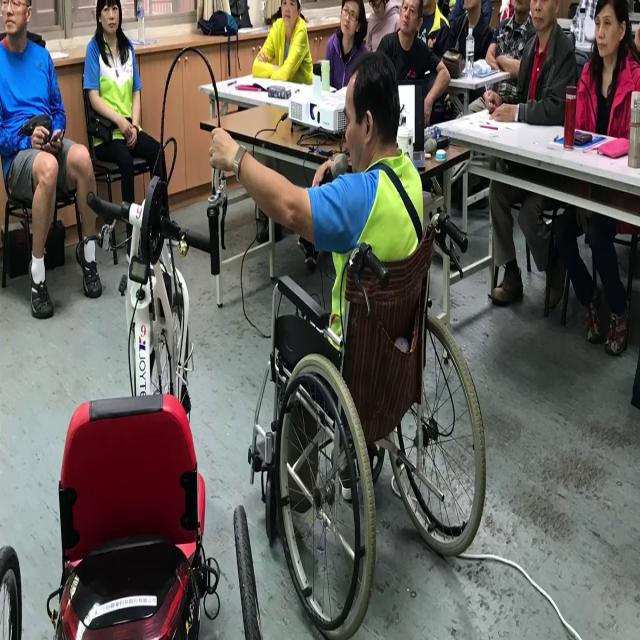wheelchairs: (238, 180, 498, 640)
